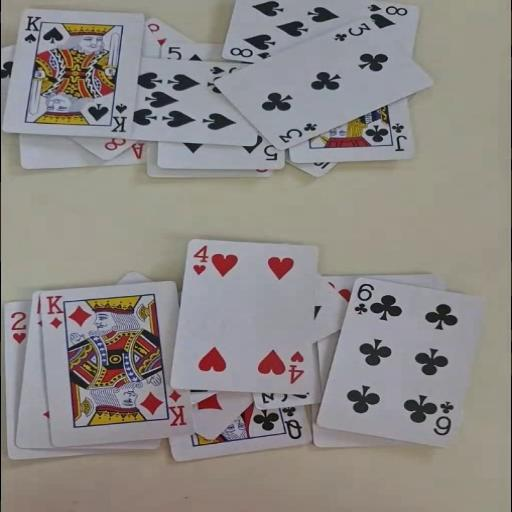2: (8, 310, 29, 344)
3: (275, 121, 319, 144), (333, 20, 373, 42)
4: (286, 349, 306, 385), (190, 243, 210, 276)
6: (430, 399, 455, 436), (351, 282, 376, 316)
8: (227, 46, 272, 60), (366, 2, 409, 16), (102, 136, 128, 151)
J: (388, 121, 408, 151)
K: (44, 293, 64, 330), (109, 101, 129, 133), (21, 14, 42, 44)
